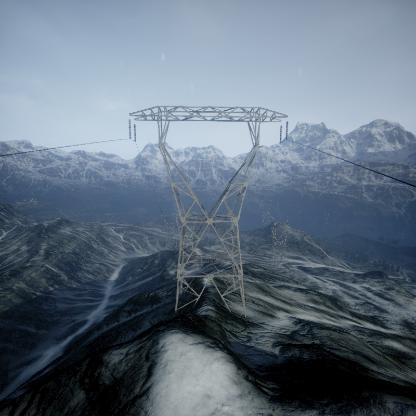tower: (127, 104, 283, 316)
